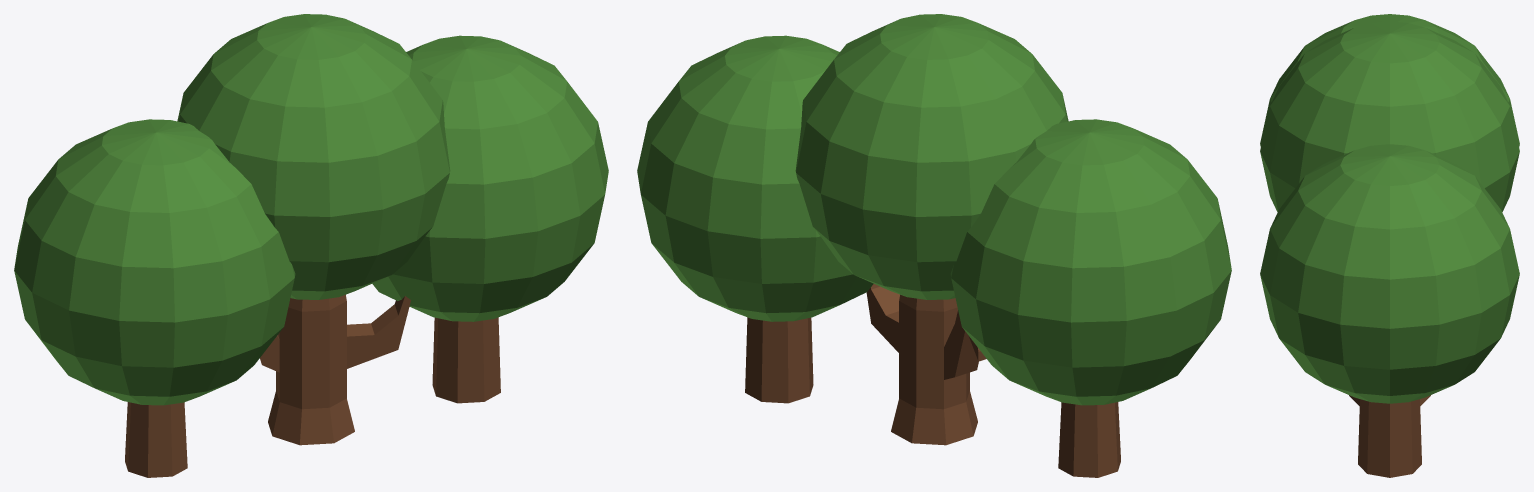
The model's file is obstacles_bush.fbx.
3 views of the same model, side by side, from view 1: azimuth 30°, elevation 25°; view 2: azimuth 150°, elevation 25°; view 3: azimuth 270°, elevation 25° (orthographic). The views are drawn at different scales.
Parts seen in each view (by area): view 1: Cylinder; view 2: Cylinder; view 3: Cylinder.
Boxes of the visible parts, <box> form: Cylinder: <box>14,14,608,477</box>; Cylinder: <box>637,14,1231,477</box>; Cylinder: <box>1260,14,1519,477</box>.
Bounding box in the file's own units: 180 × 123 × 80.
